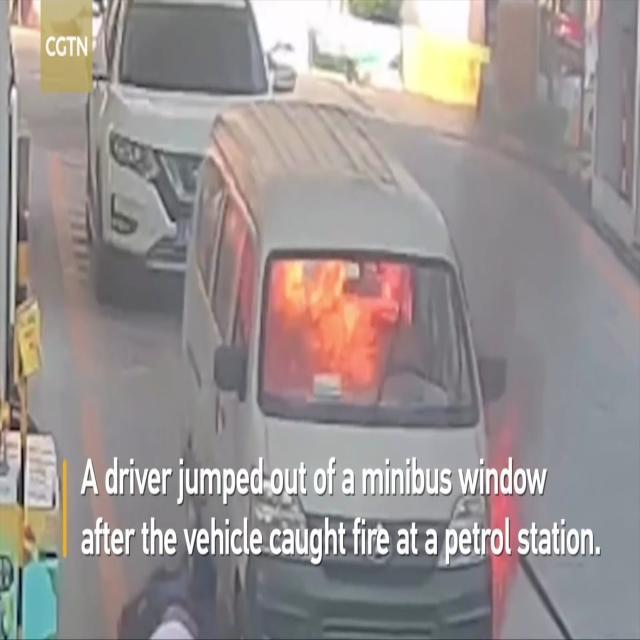fire: (264, 256, 418, 395), (488, 414, 528, 639)
